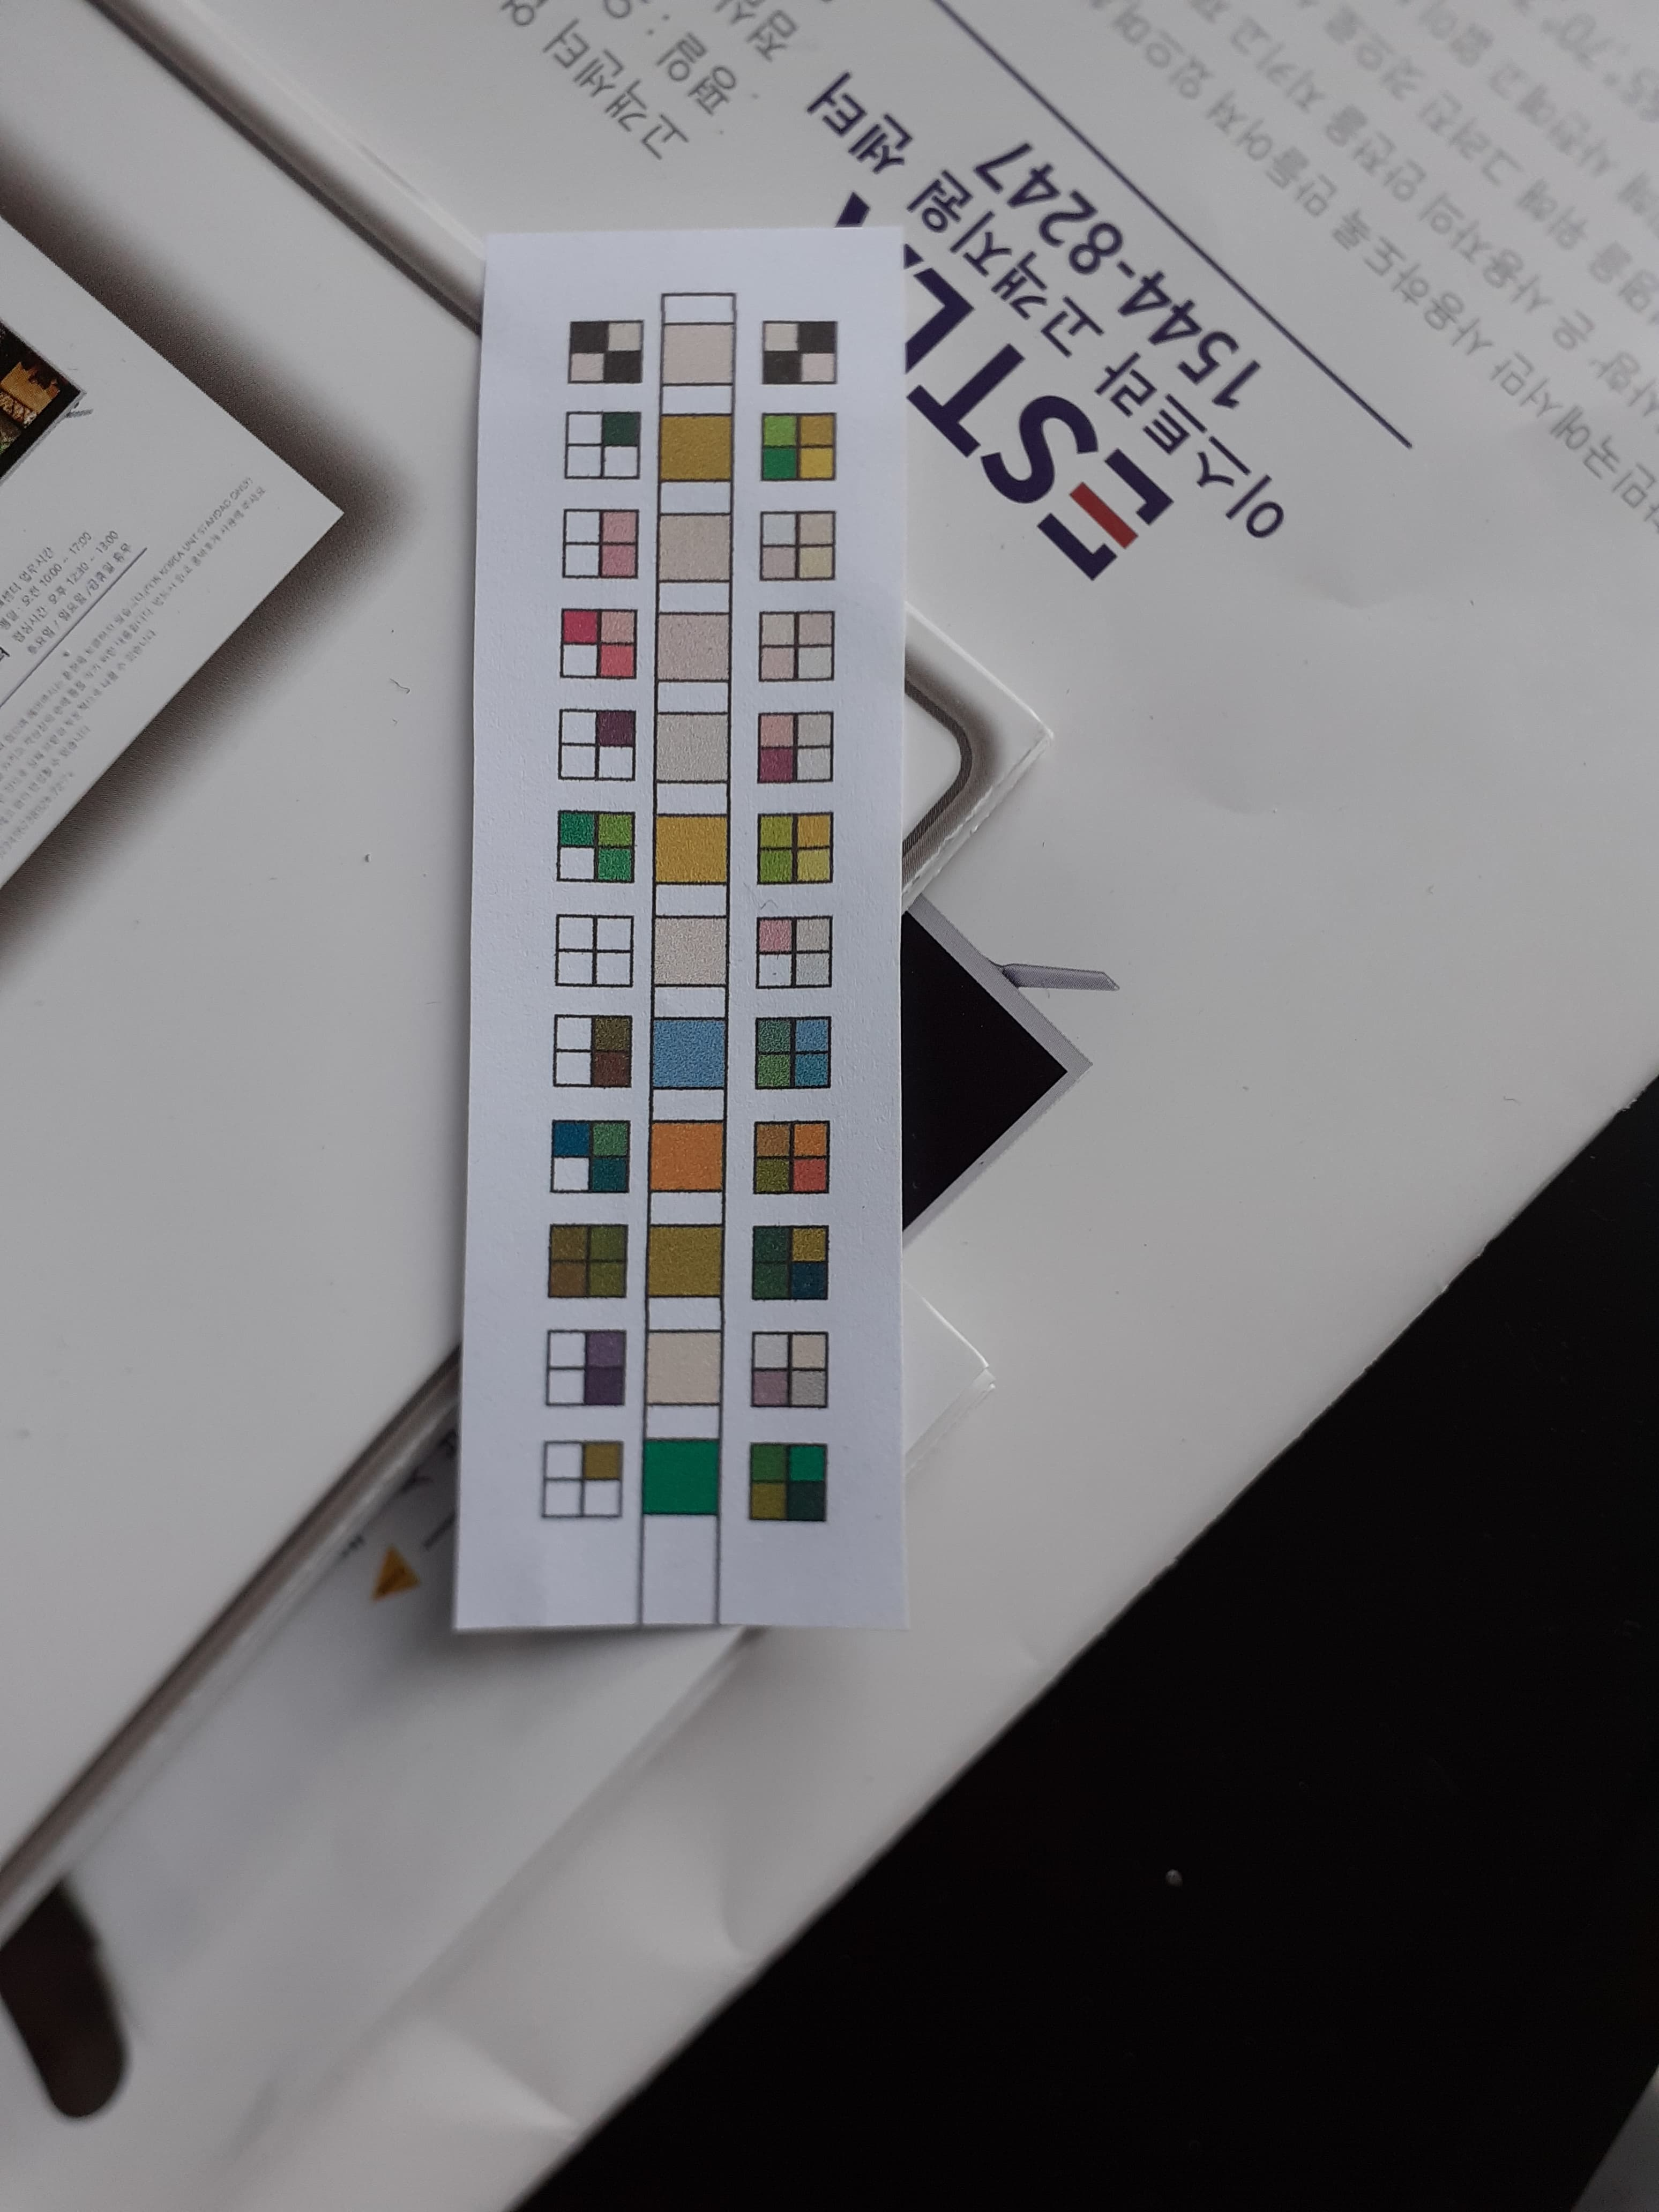tester: (483, 232, 896, 1630)
